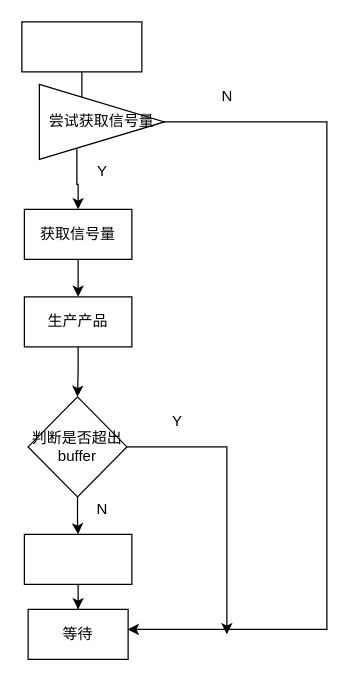
Image size: 359x681. Some labels were removed from this diagram. The centre of each missing label's shape, as x and y in pixels:
开始: the point at 81,46
释放信号量: the point at 77,558
